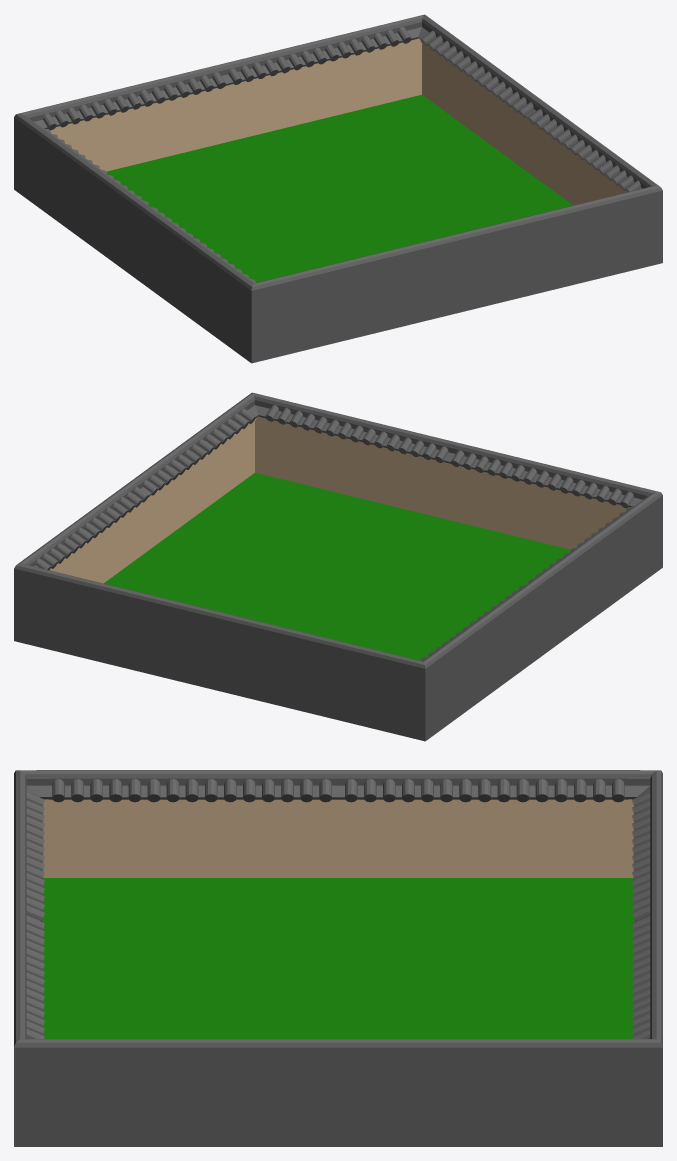
The model's file is courtyard.glb.
3 views of the same model, one above another, from view 1: azimuth 30°, elevation 25°; view 2: azimuth 150°, elevation 25°; view 3: azimuth 270°, elevation 25° (orthographic). The views are drawn at different scales.
Visible parts, largest first — view 1: Plane; view 2: Plane; view 3: Plane.
Part boxes in pixels (x1,y1,x2,y2): Plane: (14, 14, 662, 363); Plane: (14, 392, 662, 741); Plane: (14, 770, 662, 1146).
Size of the model in its own units: 10.2 by 1.82 by 10.2.
Materials: 1 (1 with a texture image).
